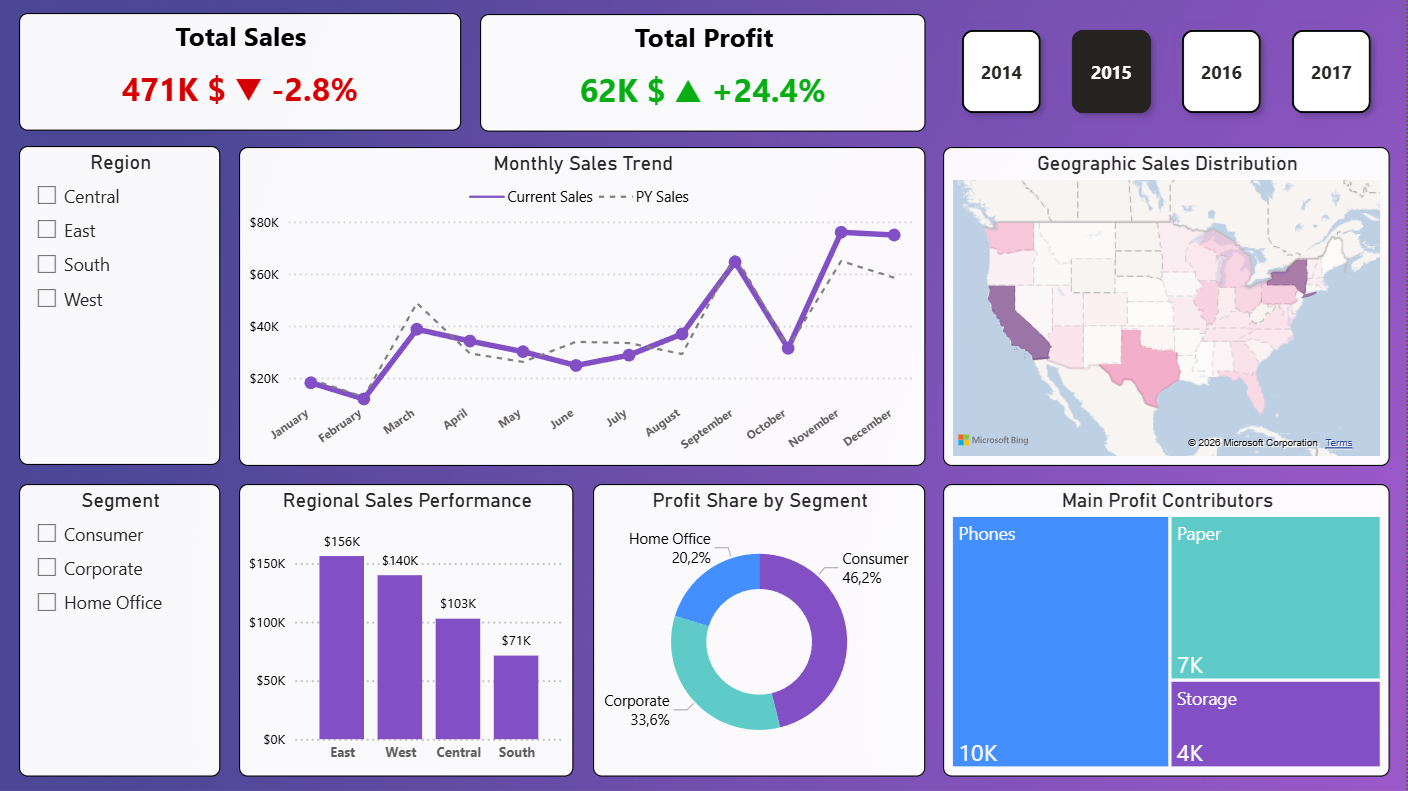

The page's visual inventory and layout, read from the dashboard file:
{"tool":"powerbi","page":{"name":"Page 1","canvas":[1280,720],"ordinal":0},"visuals":[{"type":"card","title":"Total Profit","fields":{"Values":["Date Table.Total Profit + YoY"]},"box":[438,13.6,405.3,107],"z":1000},{"type":"treemap","title":"Main Profit Contributors","fields":{"Values":["Sum(Superstore.Profit)"],"Group":["Superstore.Sub-Category"]},"box":[859,442,405,265],"z":2000},{"type":"donutChart","title":"Profit Share by Segment","fields":{"Category":["Superstore.Segment"],"Y":["Superstore.Total Profit"]},"box":[541,441,302,266],"z":3000},{"type":"filledMap","title":"Geographic Sales Distribution","fields":{"Category":["Superstore.State"]},"box":[859,134,406,290],"z":4000},{"type":"columnChart","title":"Regional Sales Performance","fields":{"Category":["Superstore.Region"],"Y":["Superstore.Current Sales"]},"box":[219,441,304,266],"z":5000},{"type":"areaChart","title":"Monthly Sales Trend","fields":{"Y":["Superstore.Total Sales"],"Category":["Date Table.Date.Variation.Date Hierarchy.Month"],"Y2":["Date Table.Total Sales PY"]},"box":[219.4,134.2,623.9,290.2],"z":6000},{"type":"advancedSlicerVisual","fields":{"Values":["Date Table.Date.Variation.Date Hierarchy.Year"]},"box":[859,14,406,110],"z":7000},{"type":"slicer","title":"Region","fields":{"Values":["Superstore.Region"]},"box":[19,134,183,290],"z":8000},{"type":"slicer","title":"Segment","fields":{"Values":["Superstore.Segment"]},"box":[19,441,183,266],"z":9000},{"type":"card","title":"Total Sales","fields":{"Values":["Date Table.Total Sales + YoY"]},"box":[19,14,402,107],"z":10000}]}

Visuals, with their boxes in screenshot pixels (x1, y1, x2, y2), scaled from the page's 1280x720 canvas onto the 1408x791 screenshot:
"Total Profit" card: 482, 15, 928, 132
"Main Profit Contributors" treemap: 945, 486, 1390, 777
"Profit Share by Segment" donutChart: 595, 484, 927, 777
"Geographic Sales Distribution" filledMap: 945, 147, 1392, 466
"Regional Sales Performance" columnChart: 241, 484, 575, 777
"Monthly Sales Trend" areaChart: 241, 147, 928, 466
advancedSlicerVisual - Date Table.Date.Variation.Date Hierarchy.Year: 945, 15, 1392, 136
"Region" slicer: 21, 147, 222, 466
"Segment" slicer: 21, 484, 222, 777
"Total Sales" card: 21, 15, 463, 133
